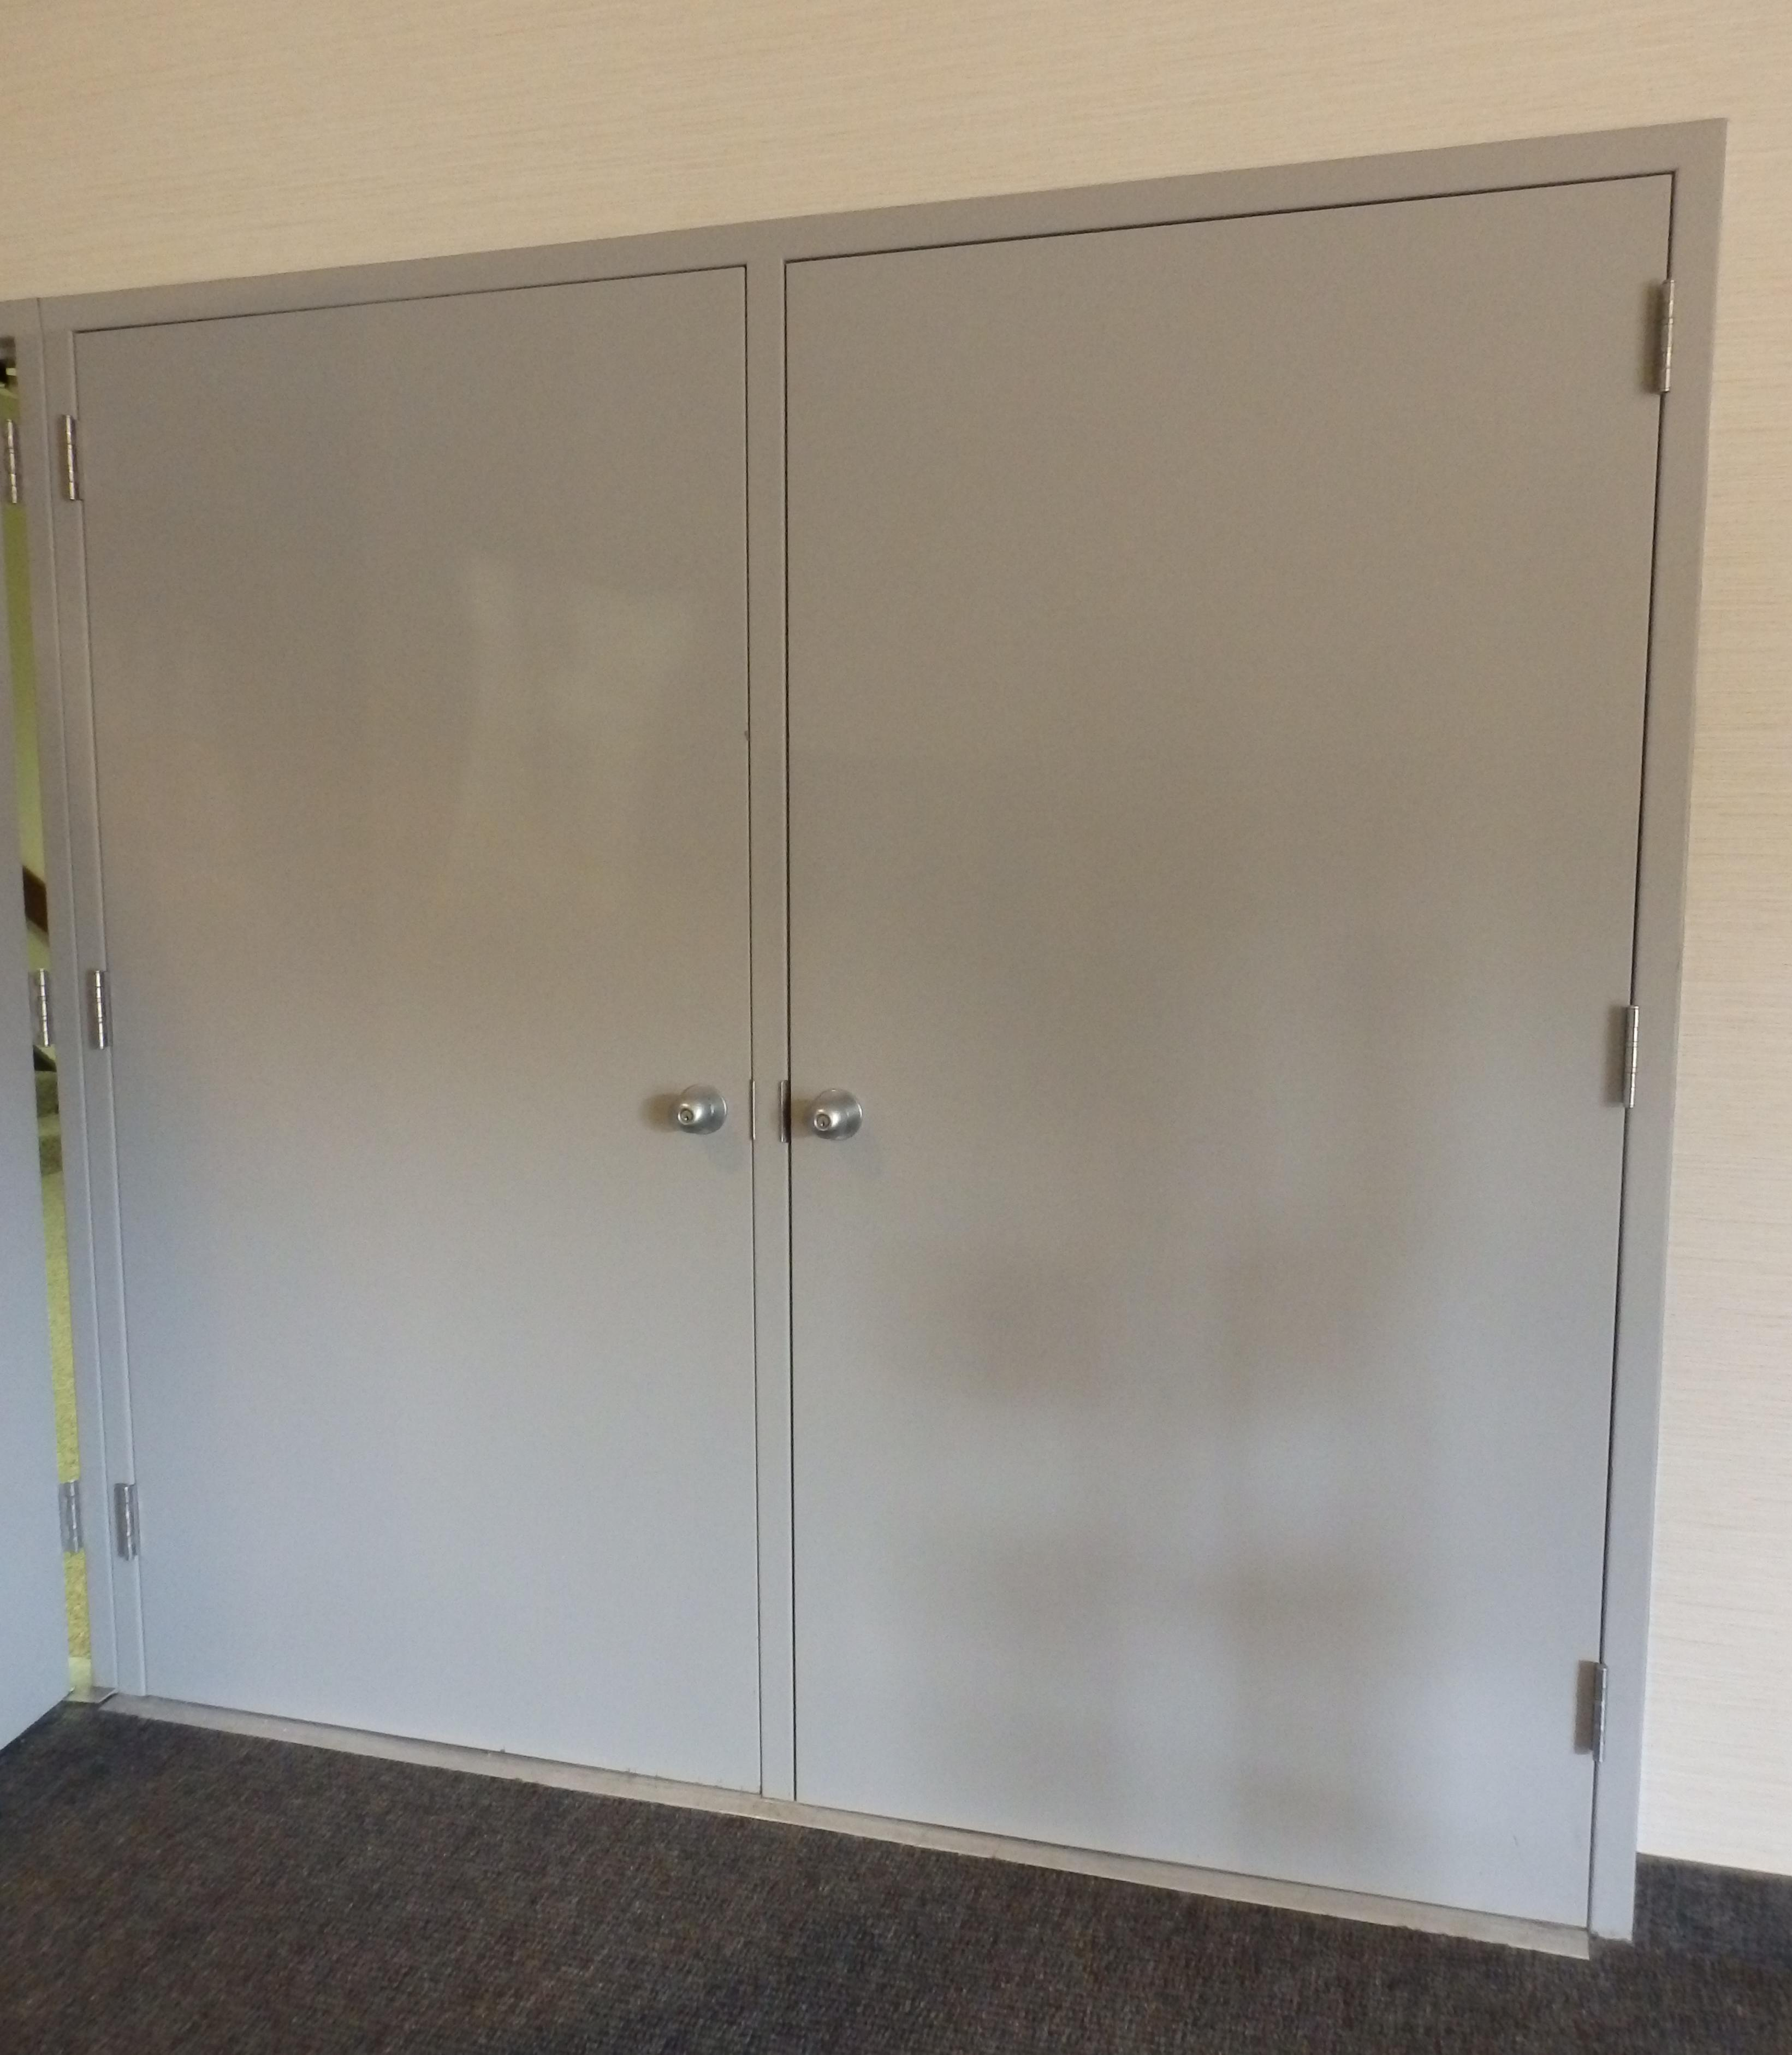door: (779, 220, 1612, 1919), (30, 250, 760, 1796)
